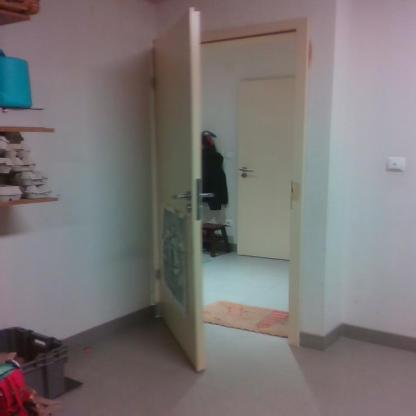door: (131, 8, 318, 374)
